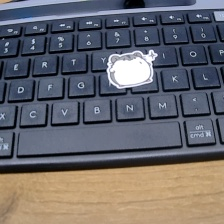mouse: (104, 46, 164, 93)
